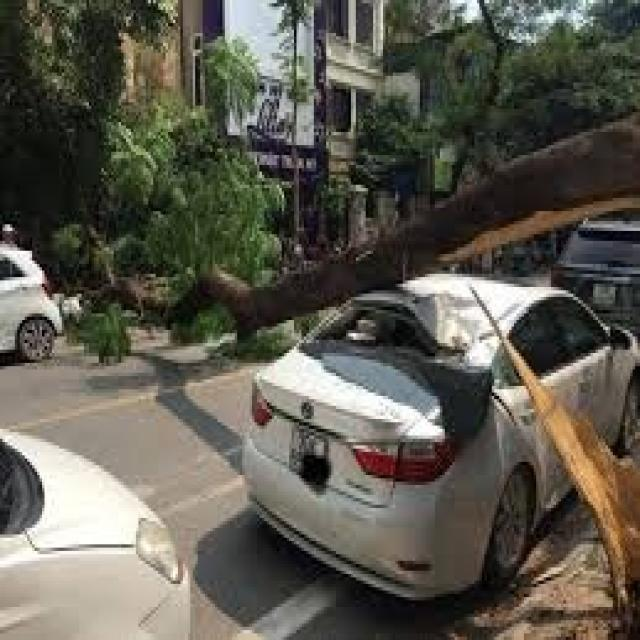fallen_object: (91, 99, 640, 346)
